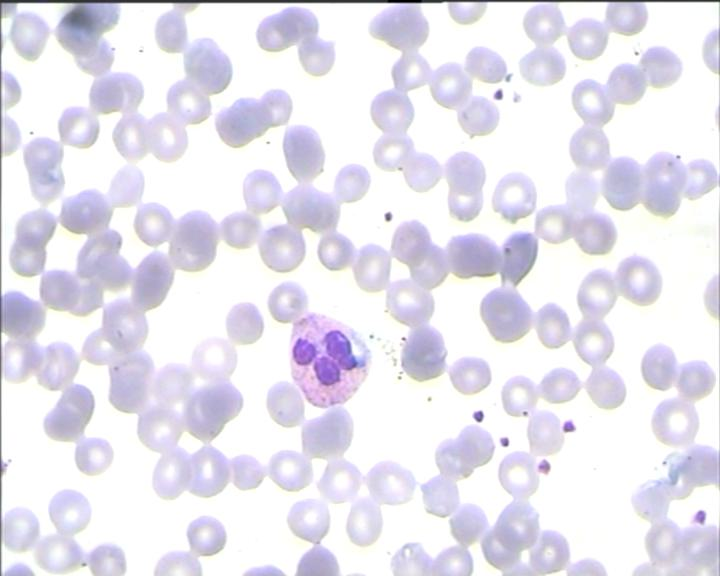neut: (289, 312, 377, 410)
